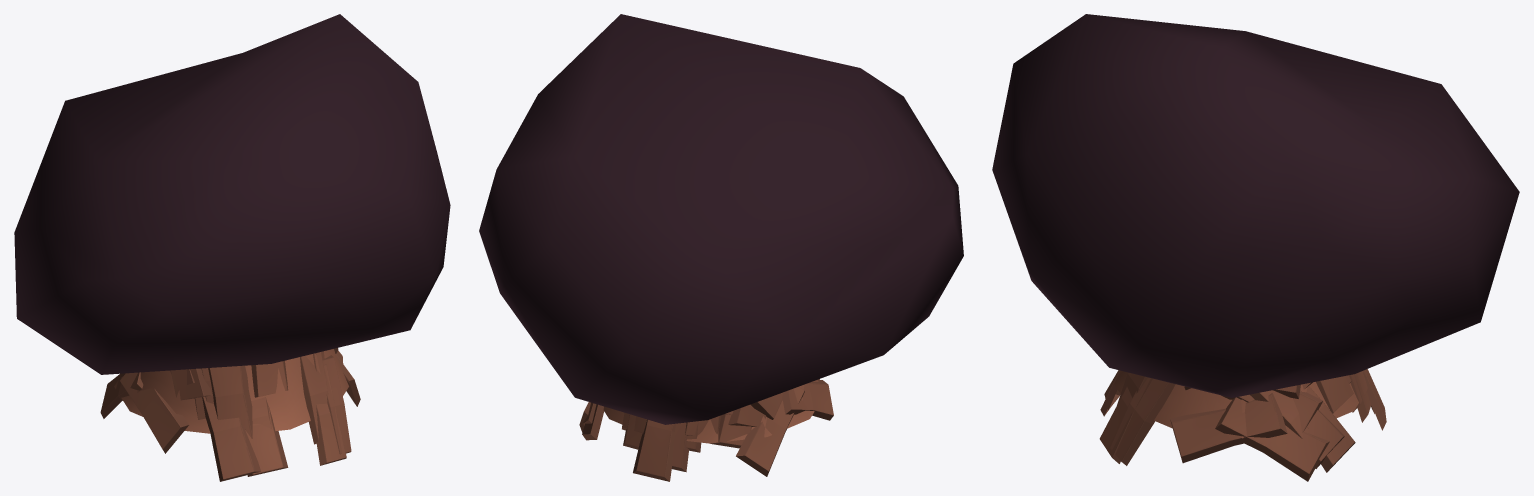
The model's file is Bush.obj.
The picture shows the model from 3 angles, left to right: view 1: azimuth 30°, elevation 25°; view 2: azimuth 150°, elevation 25°; view 3: azimuth 270°, elevation 25°; orthographic projection. The views are drawn at different scales.
Parts seen in each view (by area): view 1: Bush; view 2: Bush; view 3: Bush.
Part boxes in pixels (x1,y1,x2,y2): Bush: (14, 14, 450, 481); Bush: (479, 14, 963, 481); Bush: (992, 14, 1519, 481).
Size of the model in its own units: 2.25 by 2.25 by 2.46.
4 materials, 3 textured.
